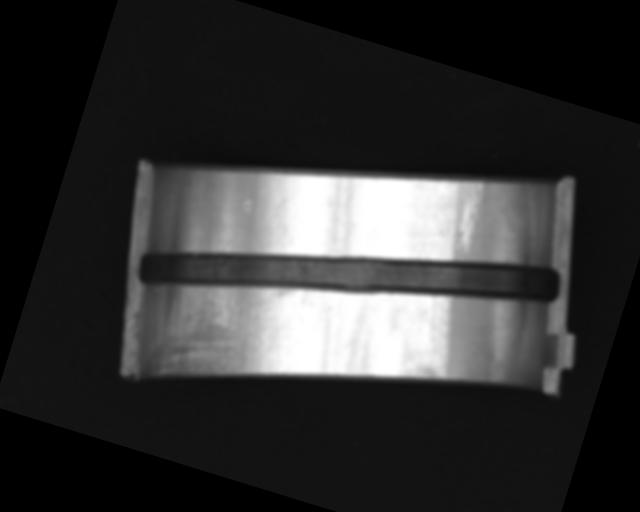bruise: (241, 198, 255, 213)
gap: (134, 152, 567, 402)
nick: (450, 176, 491, 256), (420, 293, 449, 341)
scratch: (137, 250, 299, 410)
